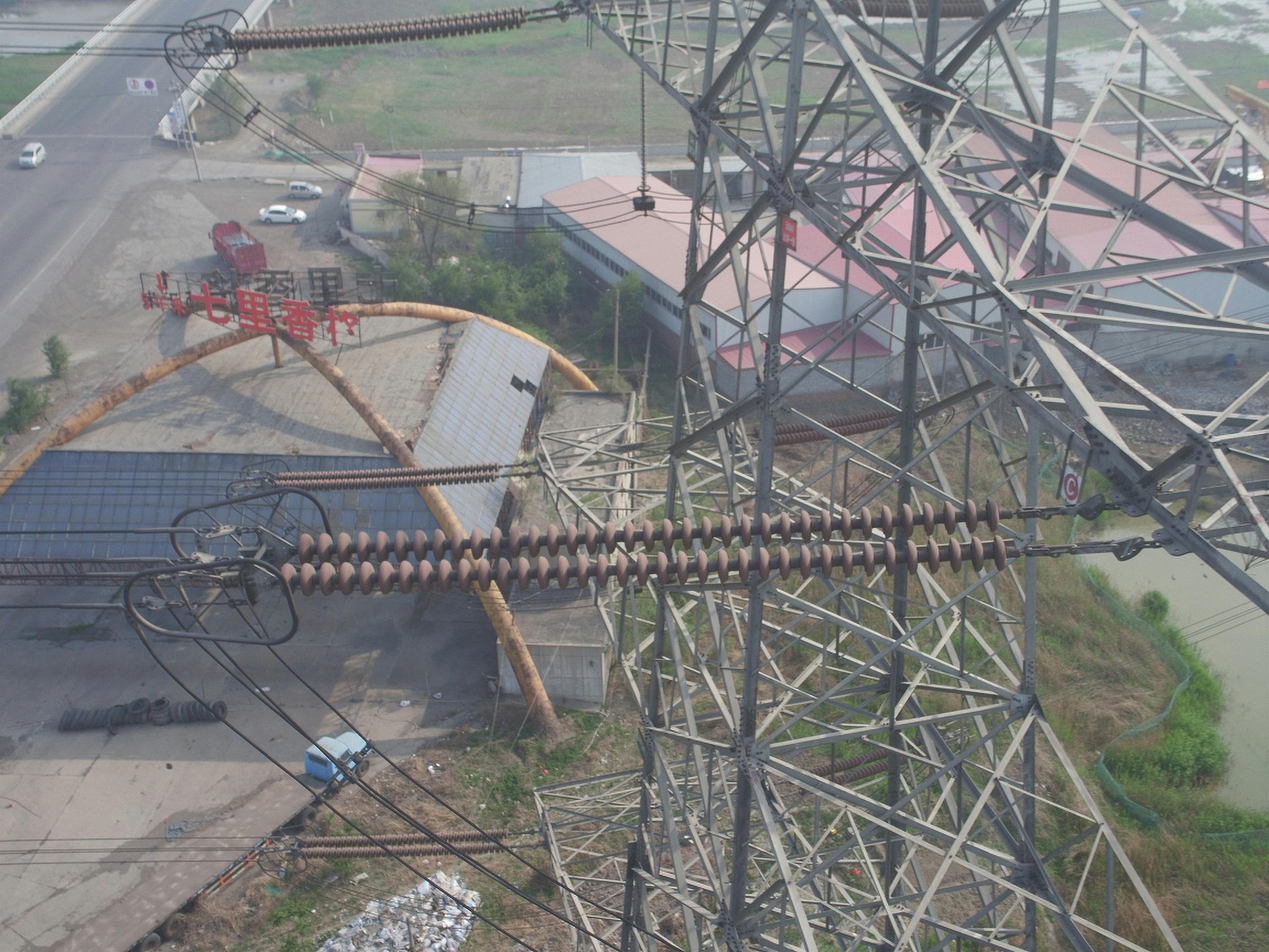insulator: (275, 495, 1011, 601), (223, 6, 527, 54), (270, 461, 501, 494), (297, 826, 512, 861), (806, 734, 925, 788), (751, 407, 899, 450), (829, 1, 988, 20), (638, 69, 649, 187)
